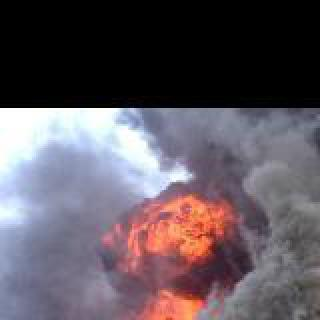fire: (110, 182, 236, 320), (222, 144, 320, 320)
